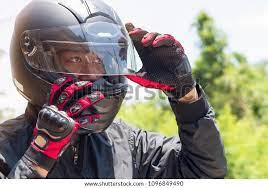helmets: (5, 0, 138, 140)
